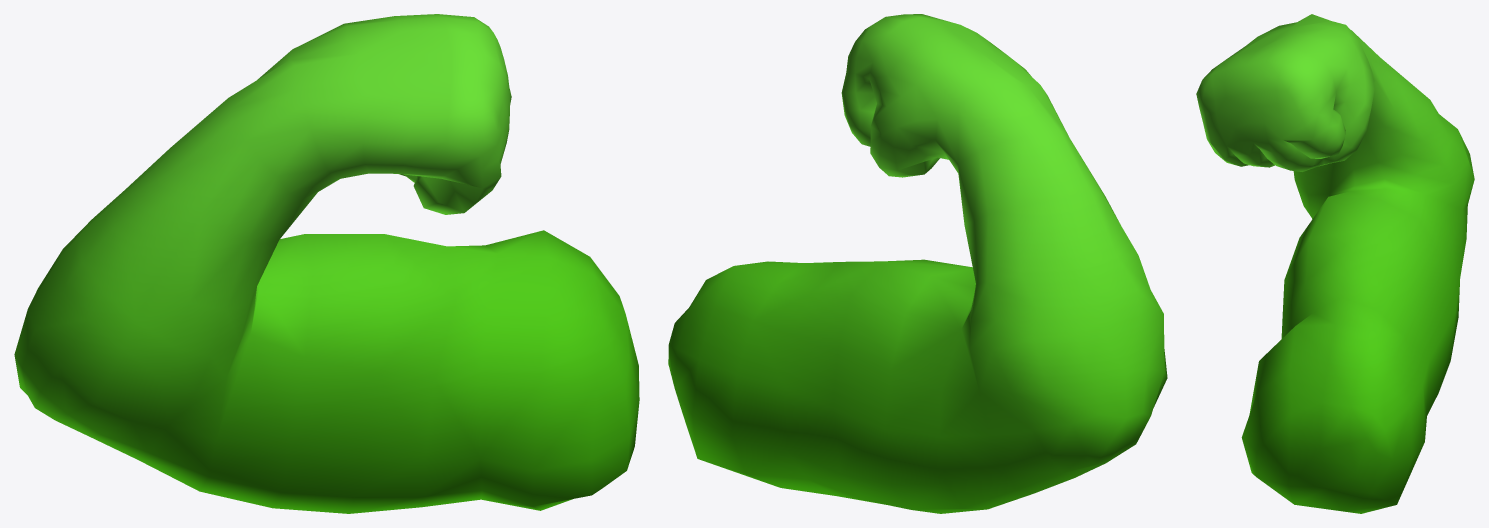
Rendered from Arm.fbx.
3 renders of one model, left to right at view 1: azimuth 30°, elevation 25°; view 2: azimuth 150°, elevation 25°; view 3: azimuth 270°, elevation 25°, orthographic. The views are drawn at different scales.
Parts seen in each view (by area): view 1: Arm; view 2: Arm; view 3: Arm.
Part boxes in pixels (box(x1,y1,x2,y2)): Arm: box(14, 14, 639, 513); Arm: box(668, 14, 1167, 513); Arm: box(1196, 14, 1474, 513).
Bounding box in the file's own units: 82.23 × 72.46 × 44.36.
